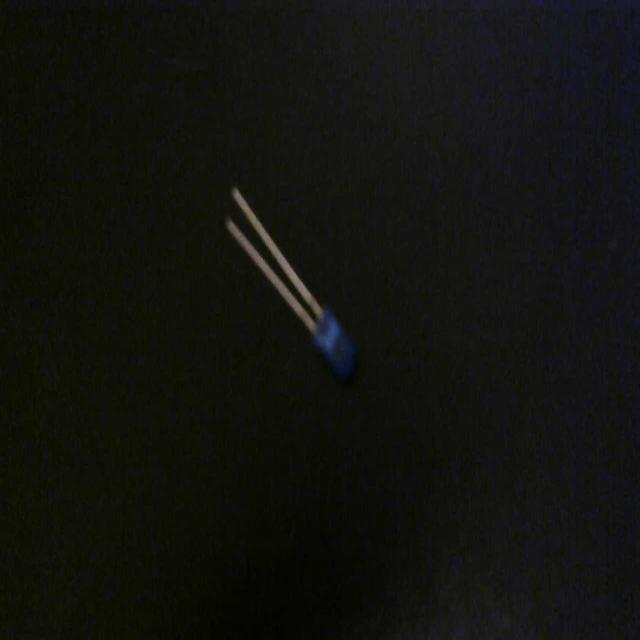blue_led: (224, 182, 358, 382)
